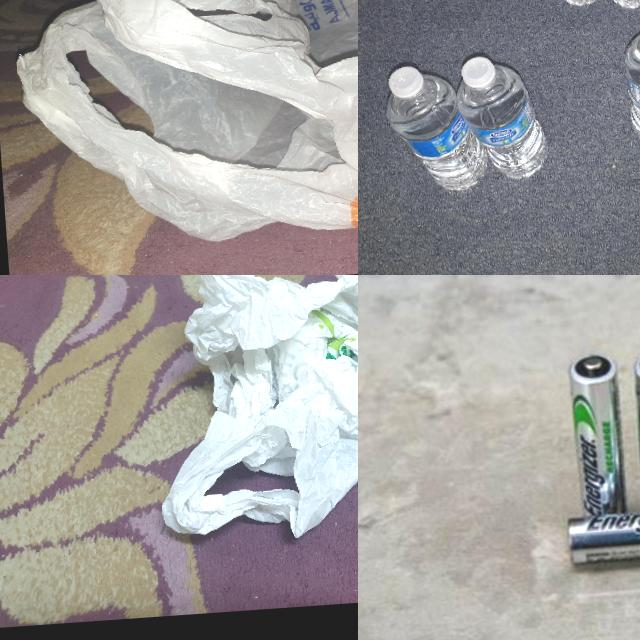bateria: (565, 352, 629, 520), (565, 503, 640, 564)
garrafa plástica: (381, 70, 488, 197), (453, 60, 552, 183), (622, 28, 640, 148)
sacola plástica: (0, 0, 358, 265), (132, 275, 358, 561)
tampa plástica: (385, 59, 428, 104), (458, 52, 500, 94)
